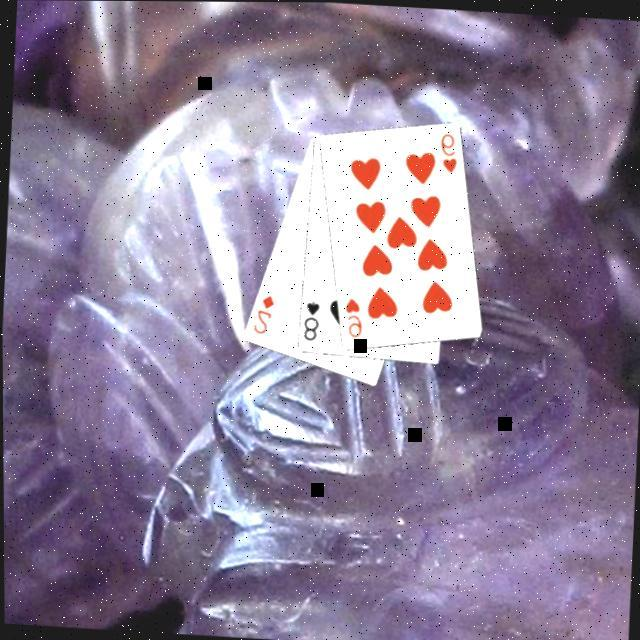2D: (248, 290, 276, 336)
8S: (298, 296, 320, 343)
9H: (433, 129, 459, 176), (338, 292, 363, 340)
